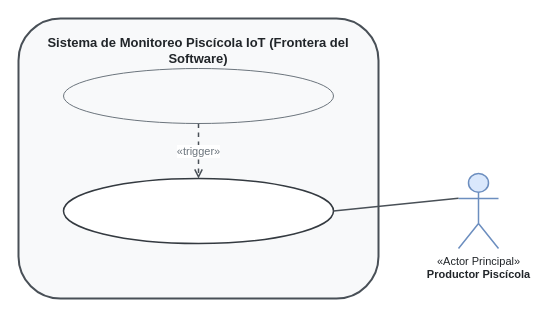
Some shapes in this 547 by 316 pixel diagram are drawn without their labels. The shapes that lost their labels are listed below. From the top down, each one's box as (x1, y1, x2, y2) in pixels, then its label:
(62, 68, 334, 124): CU-01 Registrar métricas físico-químicas
(62, 177, 334, 244): CU-02 Emitir alertas tempranas
